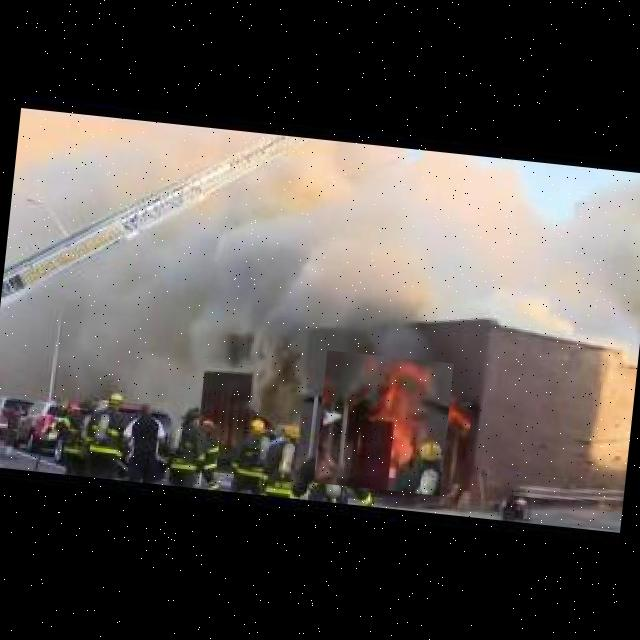fire: (313, 350, 453, 496)
